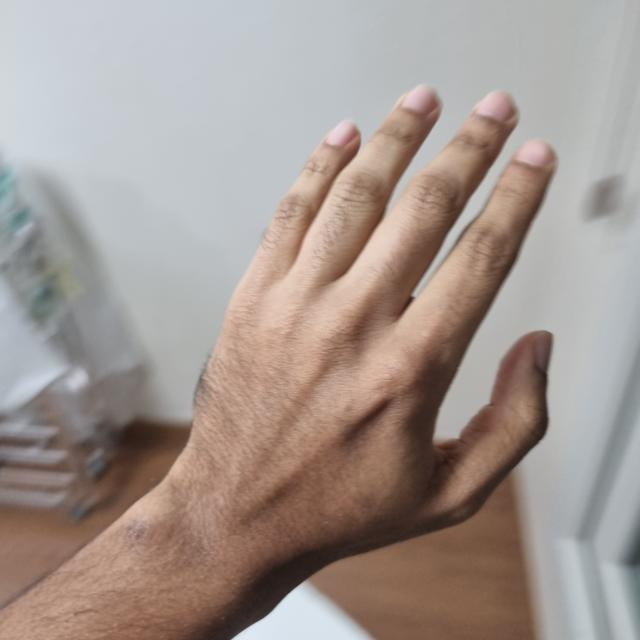Paper: (178, 86, 551, 569)
